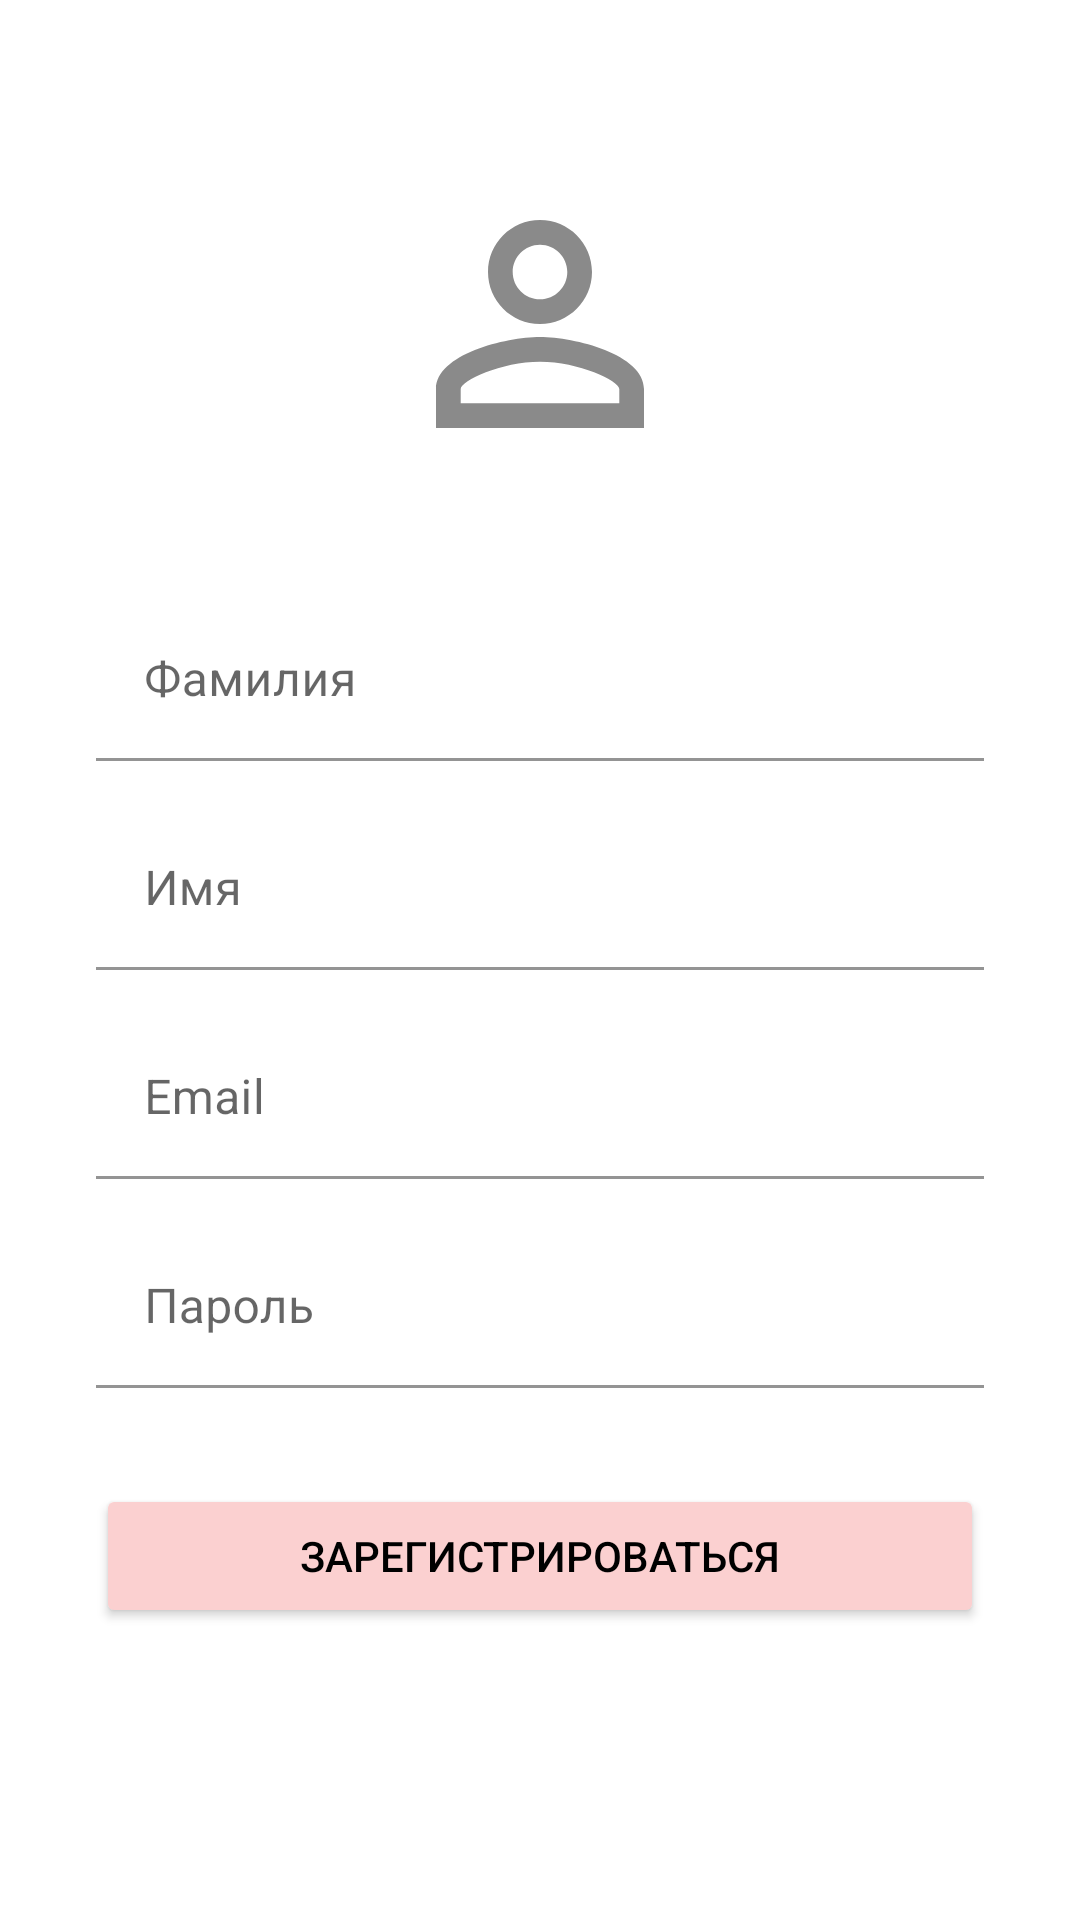

Where to tap for icons on this 1080px×1920px app screen, as point (x, y):
Выбрать аватар: point (540, 324)
